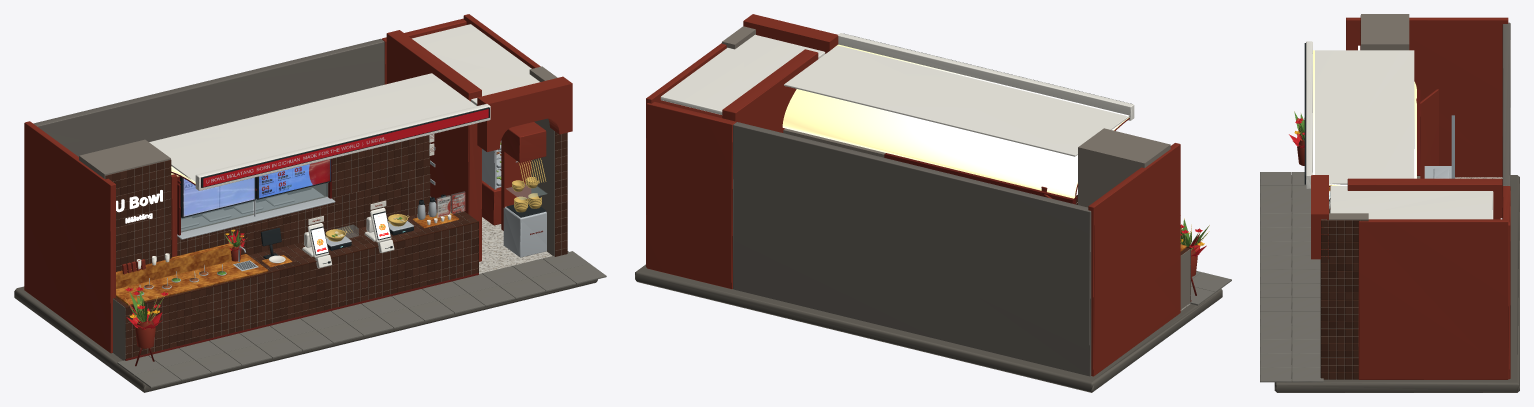
Rendered from UBowl_store.glb.
3 renders of one model, left to right at view 1: azimuth 30°, elevation 25°; view 2: azimuth 150°, elevation 25°; view 3: azimuth 270°, elevation 25°, orthographic. The views are drawn at different scales.
Parts seen in each view (by area): view 1: inferred_Shell, canopy_Assembly, counter_Assembly, floor_Assembly, entry_Assembly, service_Backwall, brand_Pier, bowl_Station, condiment_Station, service_Displays, service_Window, opening_Flowers (+6 smaller); view 2: inferred_Shell, canopy_Assembly, entry_Assembly, floor_Assembly, brand_Pier, service_Backwall, opening_Flowers, counter_Assembly; view 3: inferred_Shell, canopy_Assembly, floor_Assembly, entry_Assembly, brand_Pier, service_Door, opening_Flowers, service_Backwall.
Boxes of the visible parts, x1,y1,x2,y2 form: inferred_Shell: (24, 14, 540, 353); canopy_Assembly: (149, 24, 572, 190); counter_Assembly: (113, 206, 478, 360); floor_Assembly: (14, 217, 606, 392); entry_Assembly: (381, 18, 567, 261); service_Backwall: (177, 135, 430, 255); brand_Pier: (79, 139, 171, 271); bowl_Station: (337, 122, 546, 257); condiment_Station: (116, 243, 268, 305); service_Displays: (180, 159, 331, 217); service_Window: (177, 159, 335, 239); opening_Flowers: (125, 229, 246, 366); inferred_Shell: (646, 43, 1180, 376); canopy_Assembly: (660, 14, 1134, 198); entry_Assembly: (646, 26, 818, 289); floor_Assembly: (635, 264, 1231, 392); brand_Pier: (1076, 128, 1170, 207); service_Backwall: (783, 128, 1075, 204); opening_Flowers: (1180, 218, 1209, 295); counter_Assembly: (1180, 246, 1191, 309); inferred_Shell: (1346, 17, 1510, 379); canopy_Assembly: (1304, 41, 1493, 259); floor_Assembly: (1260, 172, 1519, 392); entry_Assembly: (1320, 178, 1510, 379); brand_Pier: (1358, 14, 1409, 50); service_Door: (1416, 89, 1438, 178); opening_Flowers: (1289, 111, 1304, 165); service_Backwall: (1417, 89, 1420, 178).
Bounding box in the file's own units: 9.31 × 3.66 × 4.88.
Materials: 41 (8 with a texture image).
